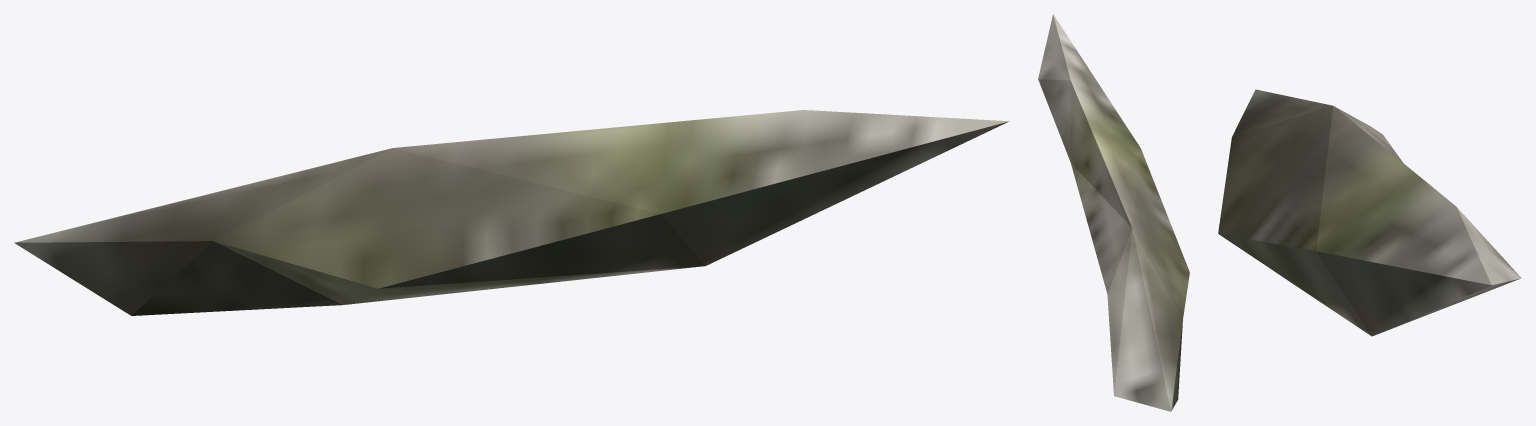
The picture shows the model from 3 angles, left to right: view 1: azimuth 30°, elevation 25°; view 2: azimuth 150°, elevation 25°; view 3: azimuth 330°, elevation 25°; orthographic projection. The views are drawn at different scales.
Bounding box in the file's own units: 0.3028 × 0.1452 × 0.3438.
Materials: 1 (1 with a texture image).
